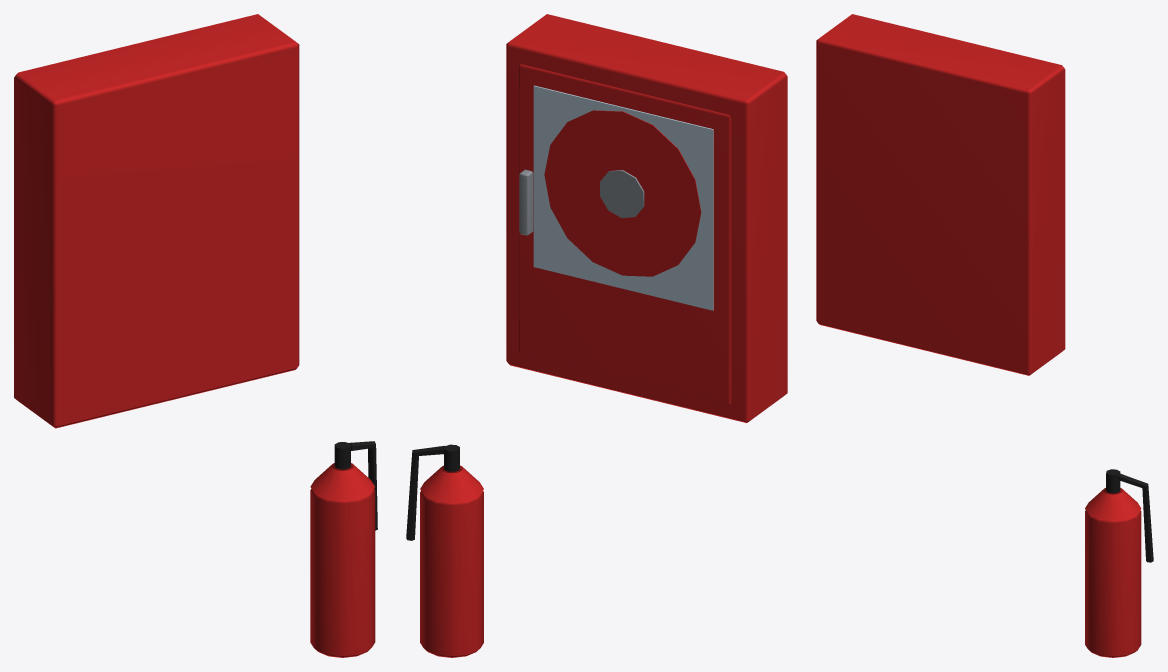
Rendered from fire_cabinet.glb.
The picture shows the model from 3 angles, left to right: view 1: azimuth 30°, elevation 25°; view 2: azimuth 150°, elevation 25°; view 3: azimuth 330°, elevation 25°; orthographic projection. The views are drawn at different scales.
Parts seen in each view (by area): view 1: FireCabinet; view 2: FireCabinet; view 3: FireCabinet.
Boxes of the visible parts, left/top/right/bottom form: FireCabinet: left=14, top=14, right=377, bottom=657; FireCabinet: left=406, top=14, right=787, bottom=657; FireCabinet: left=816, top=14, right=1153, bottom=657.
Size of the model in its own units: 1.08 by 1.85 by 0.265.
